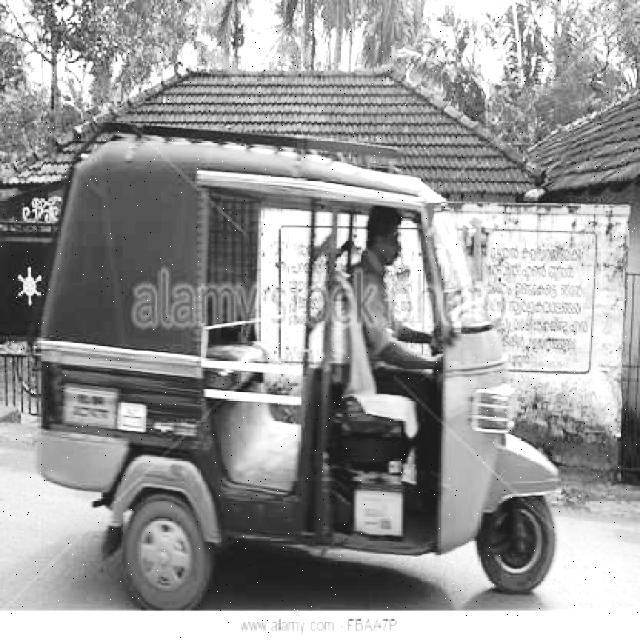Auto-Rickshaw: (29, 136, 566, 620)
